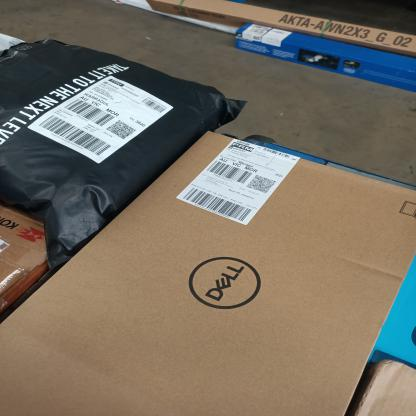label: (27, 66, 178, 166), (175, 126, 304, 226), (233, 19, 290, 53)
package: (0, 124, 416, 416)
